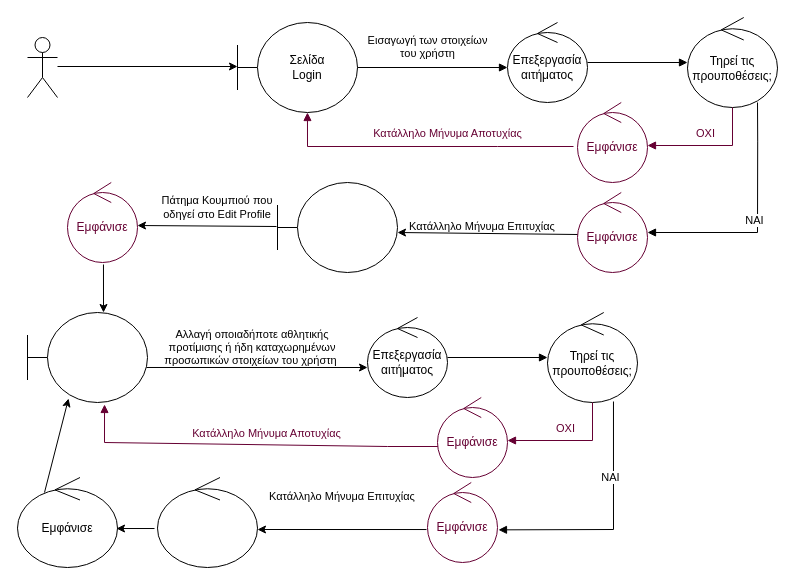
Some shapes in this 795 by 585 pixel diagram are drawn without their labels. Each missing label, with the box of its shape:
Αποθήκευση Στοιχείων Αλλαγών: (156, 476, 258, 568)
Παίκτης: (26, 36, 58, 98)
Σελίδα Edit Profile: (26, 312, 148, 402)
Σελίδα Home: (276, 182, 398, 272)
